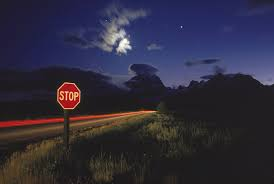Stop: (55, 81, 82, 109)
